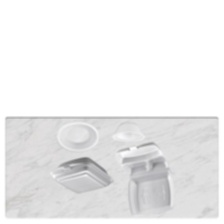foam_box: (113, 140, 178, 218), (46, 155, 118, 199), (53, 119, 101, 153), (109, 120, 149, 144)
